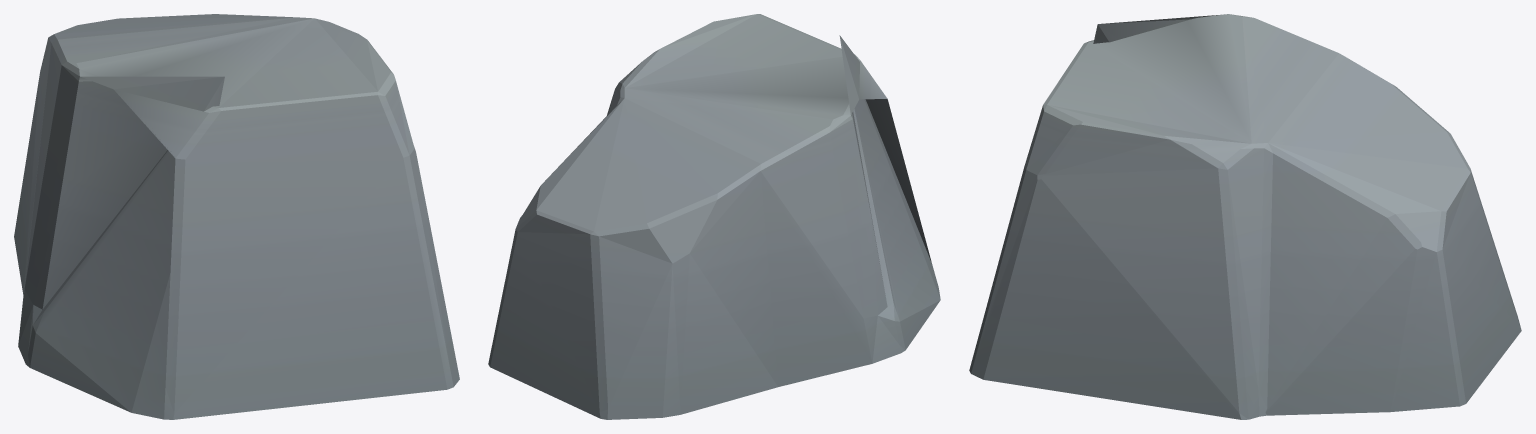
File: rock_block.glb
3 renders of one model, left to right at view 1: azimuth 30°, elevation 25°; view 2: azimuth 150°, elevation 25°; view 3: azimuth 270°, elevation 25°, orthographic. The views are drawn at different scales.
Visible parts, largest first — view 1: Rock_23_1_A; view 2: Rock_23_1_A; view 3: Rock_23_1_A.
Boxes of the visible parts, x1=… form: Rock_23_1_A: x1=14, y1=14, x2=459, y2=419; Rock_23_1_A: x1=488, y1=14, x2=940, y2=419; Rock_23_1_A: x1=969, y1=14, x2=1521, y2=419.
Bounding box in the file's own units: 1.09 × 0.8 × 1.42.
Materials: 1 (1 with a texture image).
